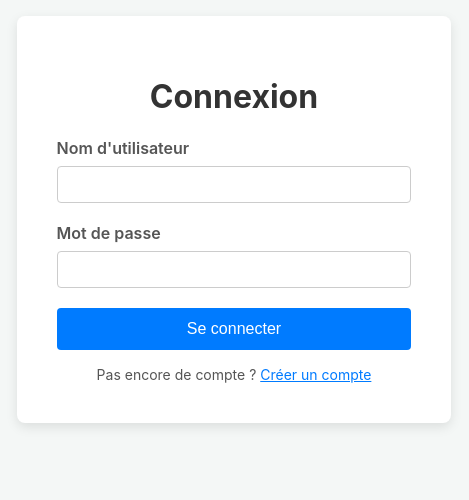
Test case: champs vides : message affiché sans appel à l'API (bug B2)
Click the button "Se connecter". click: (234, 329)
box: [57, 308, 411, 350]
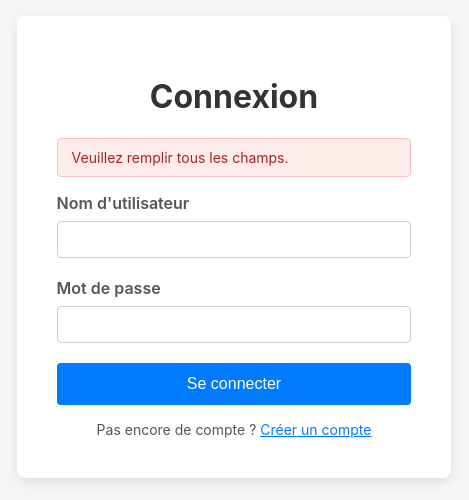
Expected: the message reads "Veuillez remplir tous les champs.", [72, 149, 288, 166]
